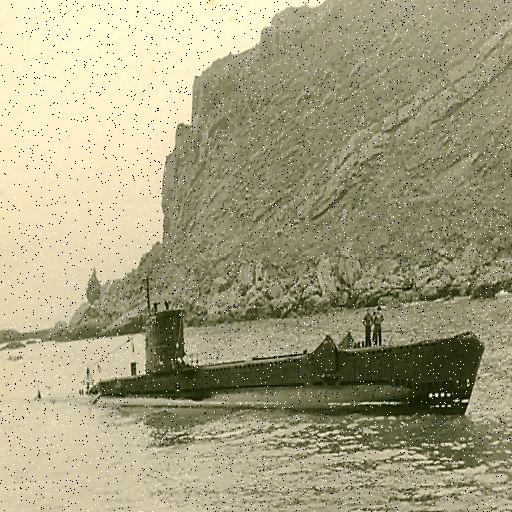submarine: (85, 311, 486, 415)
